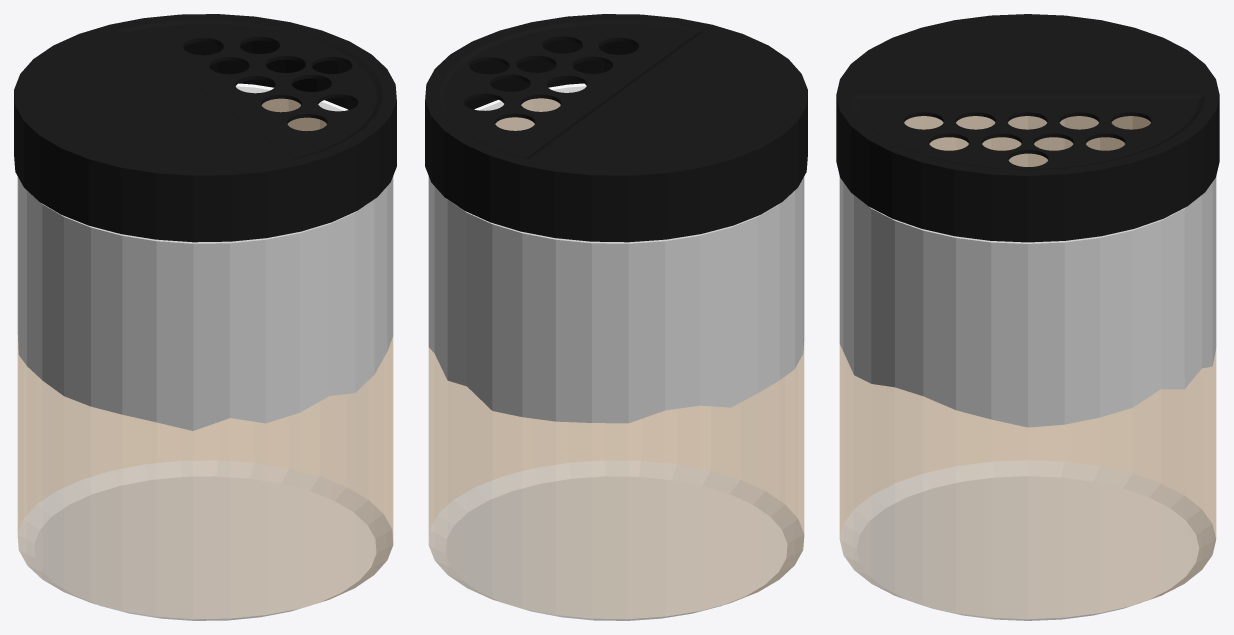
The model's file is tarcin.glb.
3 renders of one model, left to right at view 1: azimuth 30°, elevation 25°; view 2: azimuth 150°, elevation 25°; view 3: azimuth 270°, elevation 25°, orthographic.
Parts seen in each view (by area): view 1: kapak, sise; view 2: kapak, sise; view 3: kapak, sise.
Boxes of the visible parts, bbox=[...] form: kapak: bbox=[17, 86, 393, 620]; sise: bbox=[14, 14, 396, 242]; kapak: bbox=[428, 86, 804, 620]; sise: bbox=[425, 14, 807, 242]; kapak: bbox=[839, 116, 1216, 620]; sise: bbox=[836, 14, 1219, 242].
Bounding box in the file's own units: 1.13 × 1.47 × 1.13.
